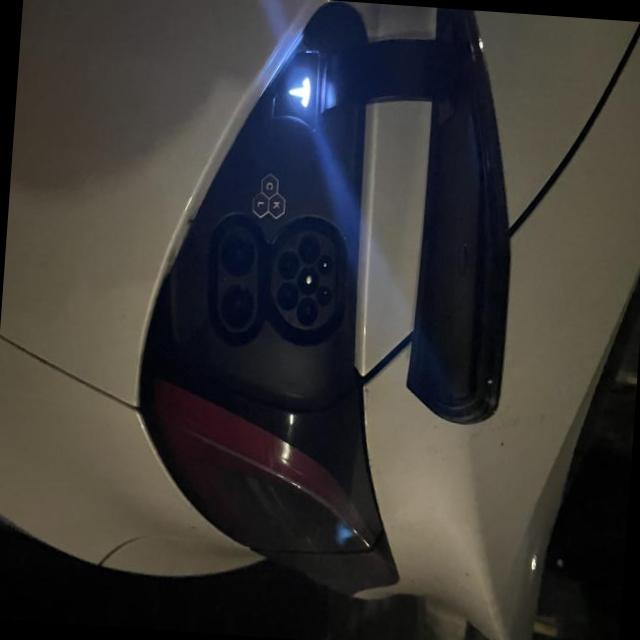inlet: (270, 231, 335, 329)
inlet-above-left: (316, 255, 331, 274)
inlet-above-right: (314, 285, 331, 306)
inlet-below-left: (276, 250, 298, 279)
inlet-below-right: (276, 281, 298, 310)
inlet-center: (296, 266, 318, 295)
inlet-center-left: (297, 234, 319, 264)
inlet-center-right: (295, 297, 316, 325)
